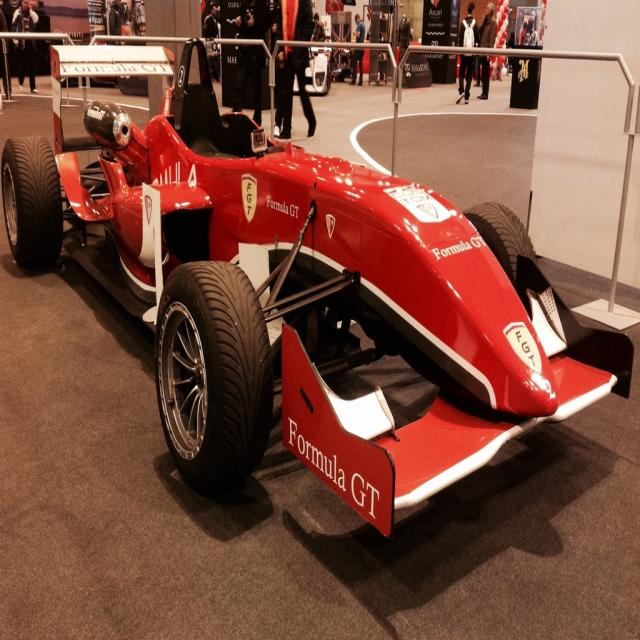car: (0, 32, 621, 524)
